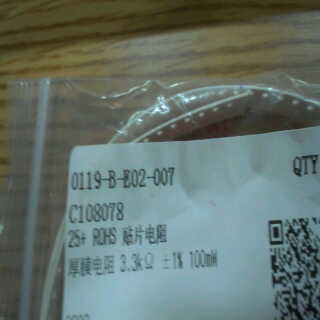3.3kO: (116, 248, 160, 276)
